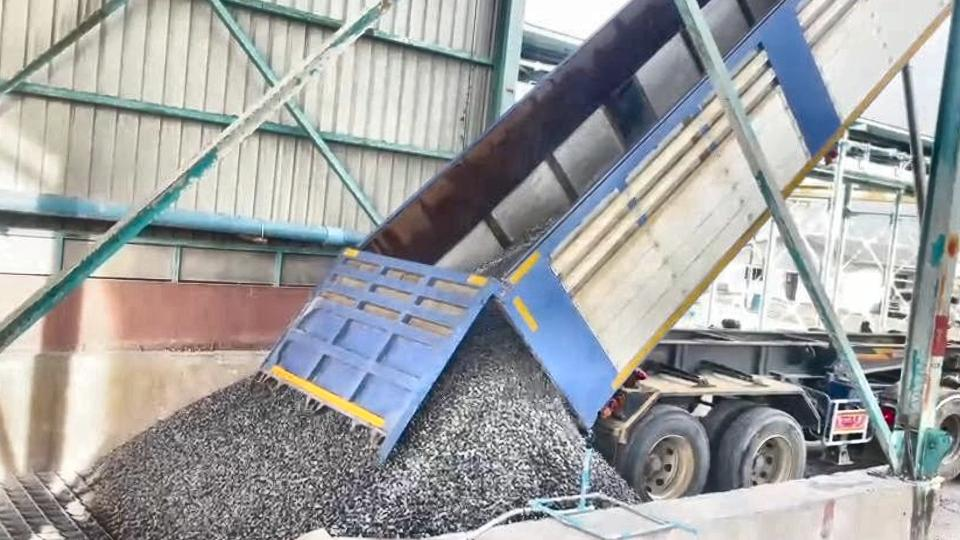gravel: (83, 306, 584, 540), (593, 455, 635, 501)
